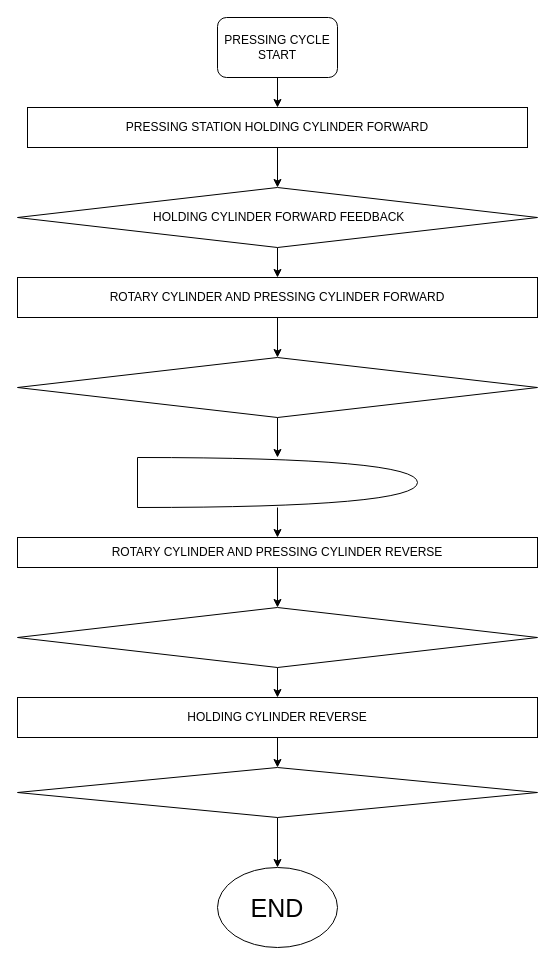
This 555x965 diagram has some shape labels left out. The box of each missing label's shape, as (x1, y1, x2, y2) in pixels:
DELAY: (136, 456, 418, 508)
HOLDING CYLINDER REVERSE FEEDBACK: (16, 766, 538, 818)
ROTARY CYLINDER AND PRESING CYLINDER FORWARD FEEDBACK: (16, 356, 538, 418)
ROTARY CYLINDER AND PRESSING CYLINDER REVERSE FEEDBACK: (16, 606, 538, 668)
